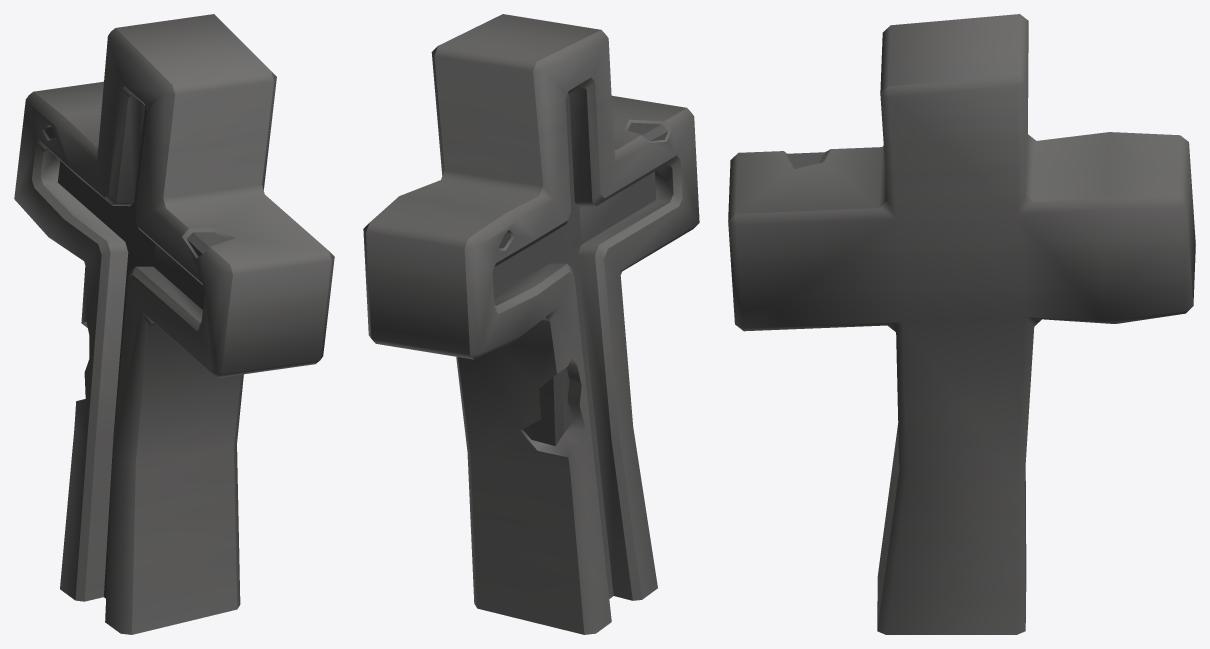
The model's file is Cross_2_3.obj.
3 renders of one model, left to right at view 1: azimuth 30°, elevation 25°; view 2: azimuth 150°, elevation 25°; view 3: azimuth 270°, elevation 25°, orthographic. The views are drawn at different scales.
Visible parts, largest first — view 1: Cross_2_3; view 2: Cross_2_3; view 3: Cross_2_3.
Boxes of the visible parts, x1,y1,x2,y2 form: Cross_2_3: (14,14,334,634); Cross_2_3: (363,14,699,634); Cross_2_3: (728,14,1195,634).
Size of the model in its own units: 0.3162 by 1.03 by 0.7419.
